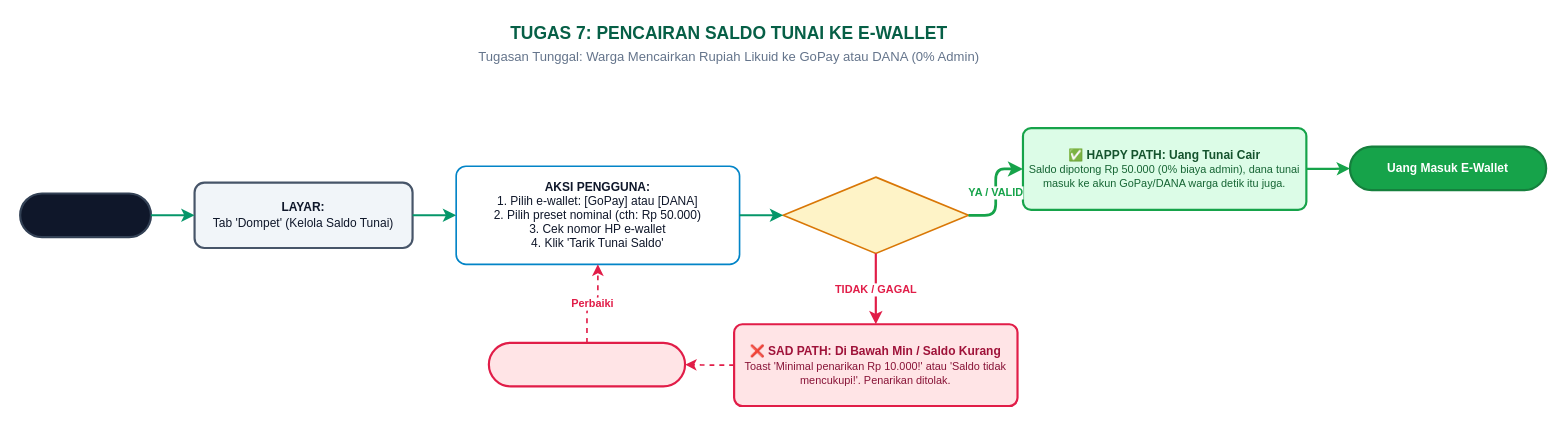
The diagram is 1565 pixels wide and 425 high, and some of its shapes have lost their labels. The shapes that lost their labels are listed below. From the top down, each one's box as (x1, y1, x2, y2) in pixels, then its label:
(19, 192, 152, 238): MULAI TUGAS
(782, 176, 969, 254): Nominal >= 10k & No HP Valid & Saldo Mencukupi?
(487, 341, 686, 387): Perbaiki Nominal / Top Up
